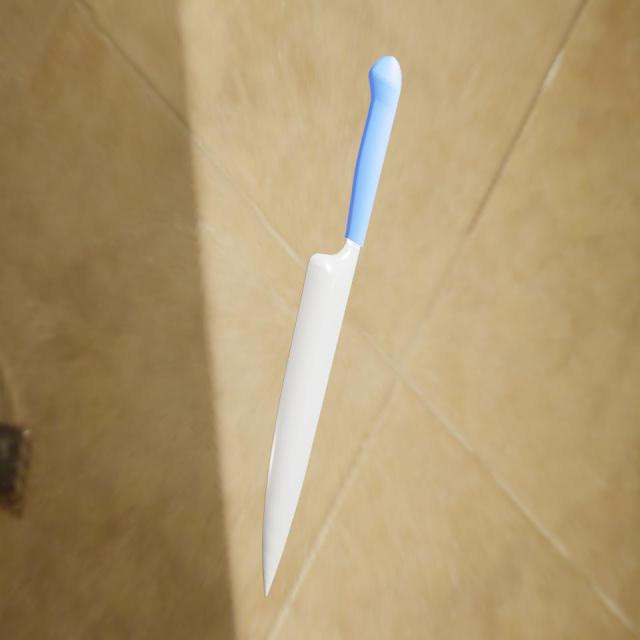knife: (345, 55, 402, 246)
